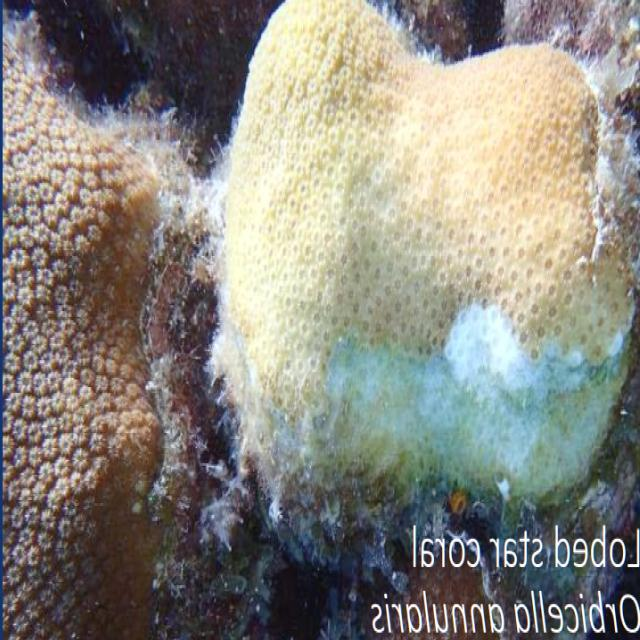Coral: (203, 0, 637, 571), (0, 31, 166, 640)
